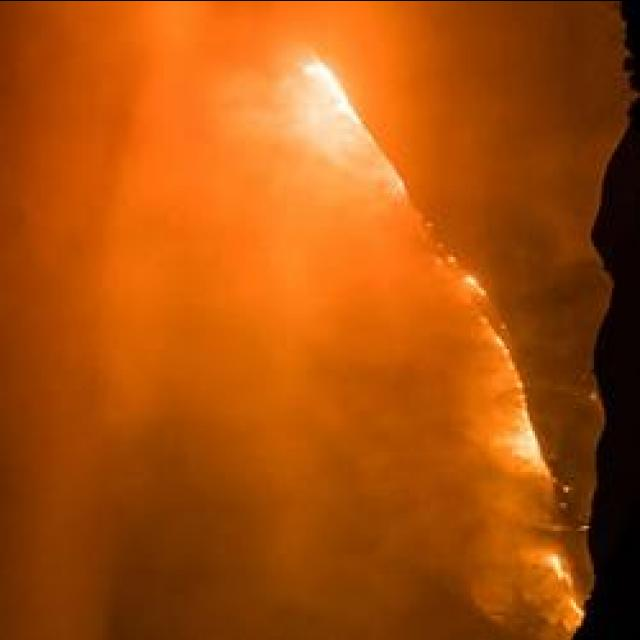fire: (304, 60, 352, 111), (506, 425, 548, 465), (550, 550, 570, 586)
smoke: (65, 408, 307, 628), (269, 440, 495, 640), (320, 342, 503, 486), (205, 58, 302, 184), (451, 516, 545, 620), (296, 120, 392, 208)
